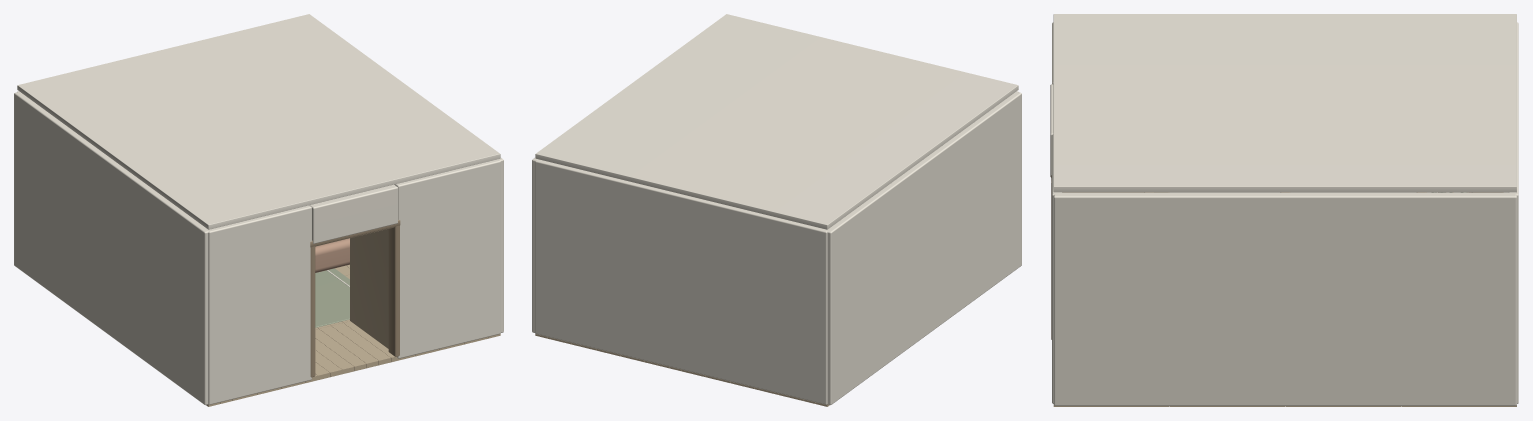
File: interior-reading.glb
The picture shows the model from 3 angles, left to right: view 1: azimuth 30°, elevation 25°; view 2: azimuth 150°, elevation 25°; view 3: azimuth 270°, elevation 25°; orthographic projection. The views are drawn at different scales.
Parts seen in each view (by area): view 1: shell, detail; view 2: shell; view 3: shell.
Boxes of the visible parts, x1,y1,x2,y2 form: shell: (14, 14, 503, 406); detail: (315, 238, 349, 272); shell: (532, 14, 1021, 406); shell: (1050, 14, 1518, 406).
Bounding box in the file's own units: 6.15 × 3.57 × 6.87.
